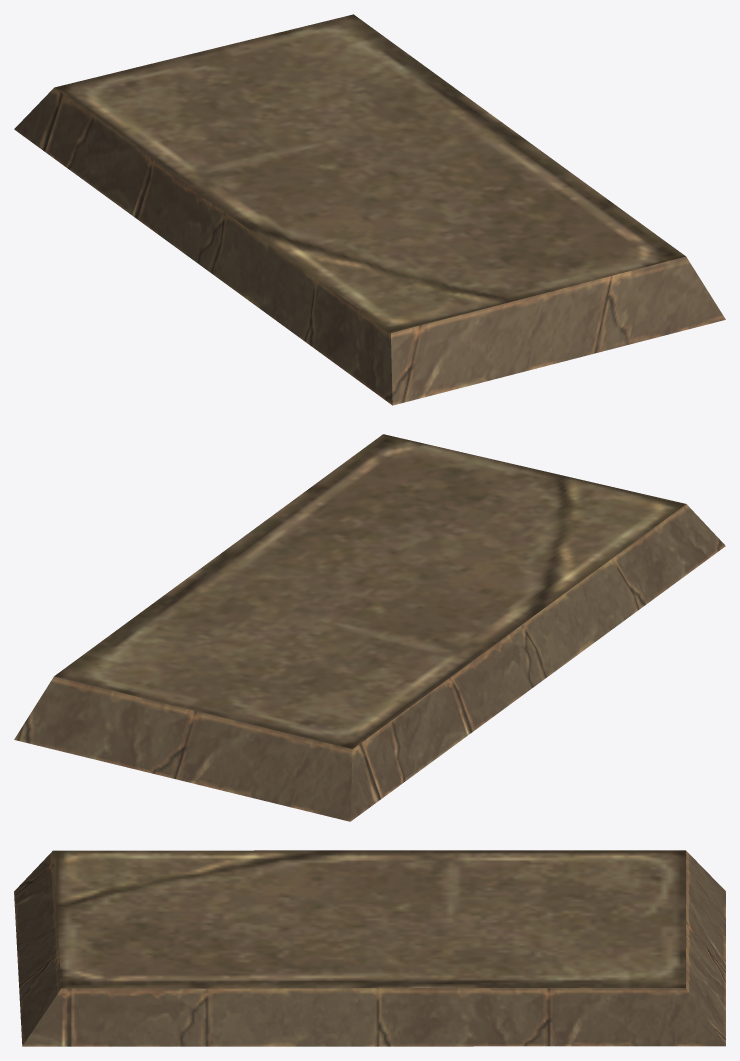
File: A_dizhuan_003.fbx
3 renders of one model, top to bottom at view 1: azimuth 30°, elevation 25°; view 2: azimuth 150°, elevation 25°; view 3: azimuth 270°, elevation 25°, orthographic. The views are drawn at different scales.
Visible parts, largest first — view 1: A_dizhuan_003; view 2: A_dizhuan_003; view 3: A_dizhuan_003.
Boxes of the visible parts, box(x1,y1,x2,y2) form: A_dizhuan_003: box(14, 14, 725, 405); A_dizhuan_003: box(14, 434, 725, 821); A_dizhuan_003: box(14, 850, 725, 1046).
Size of the model in its own units: 33.86 by 5.06 by 65.42.
